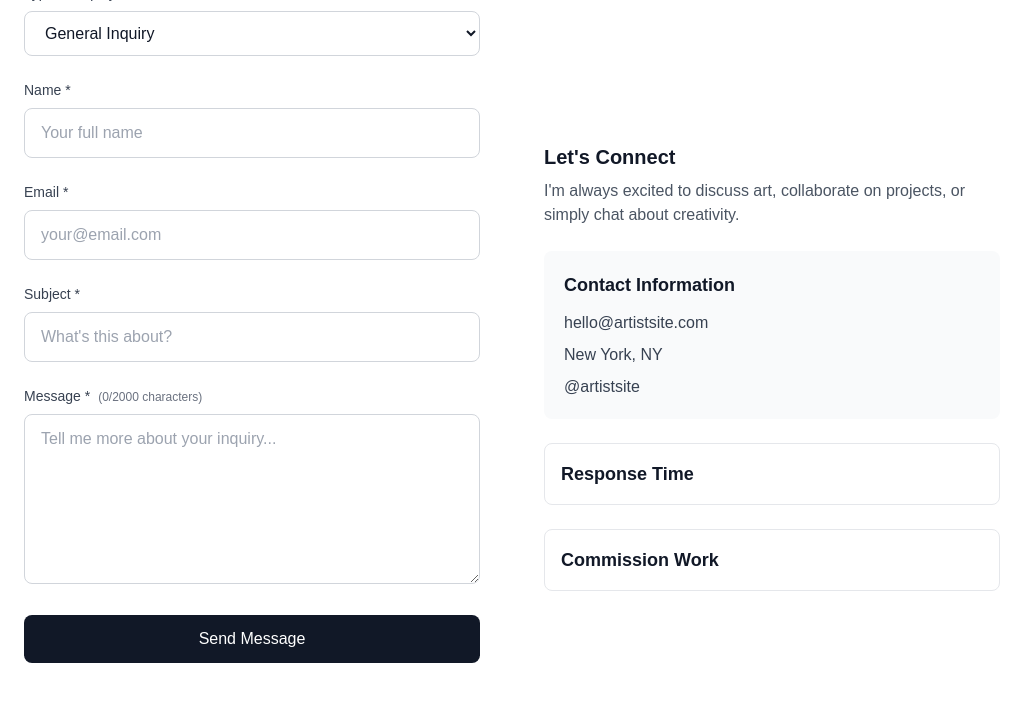
Contact Page › Character Counter › displays character count for message field
(page scrolled)
Expected: the text "(0/2000 characters)" is shown, [98,390,202,404]
In the text box labelled "Message *(0/2000 characters)": (252, 499) [24,414,480,584], type "Hello world"
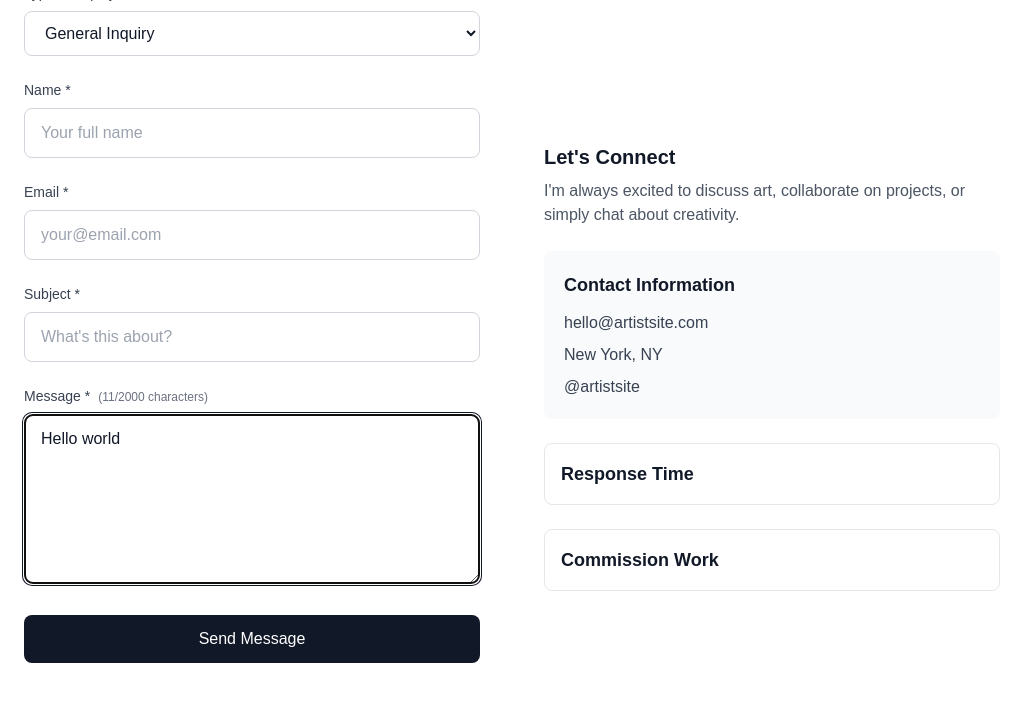
Expected: the text "(11/2000 characters)" is shown, [98,390,208,404]
